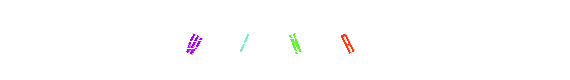I: (245, 0, 325, 80)
N: (255, 0, 335, 80)
R: (307, 0, 387, 80)
W: (153, 0, 233, 80)
